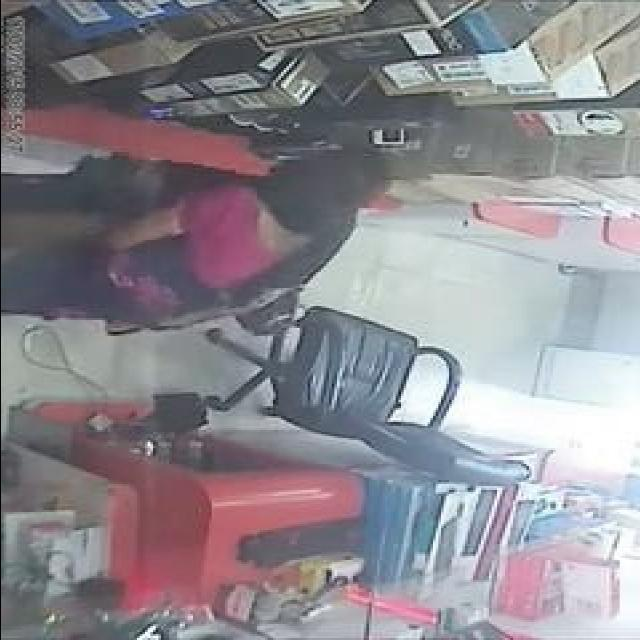Shoplifting: (0, 111, 417, 351)
